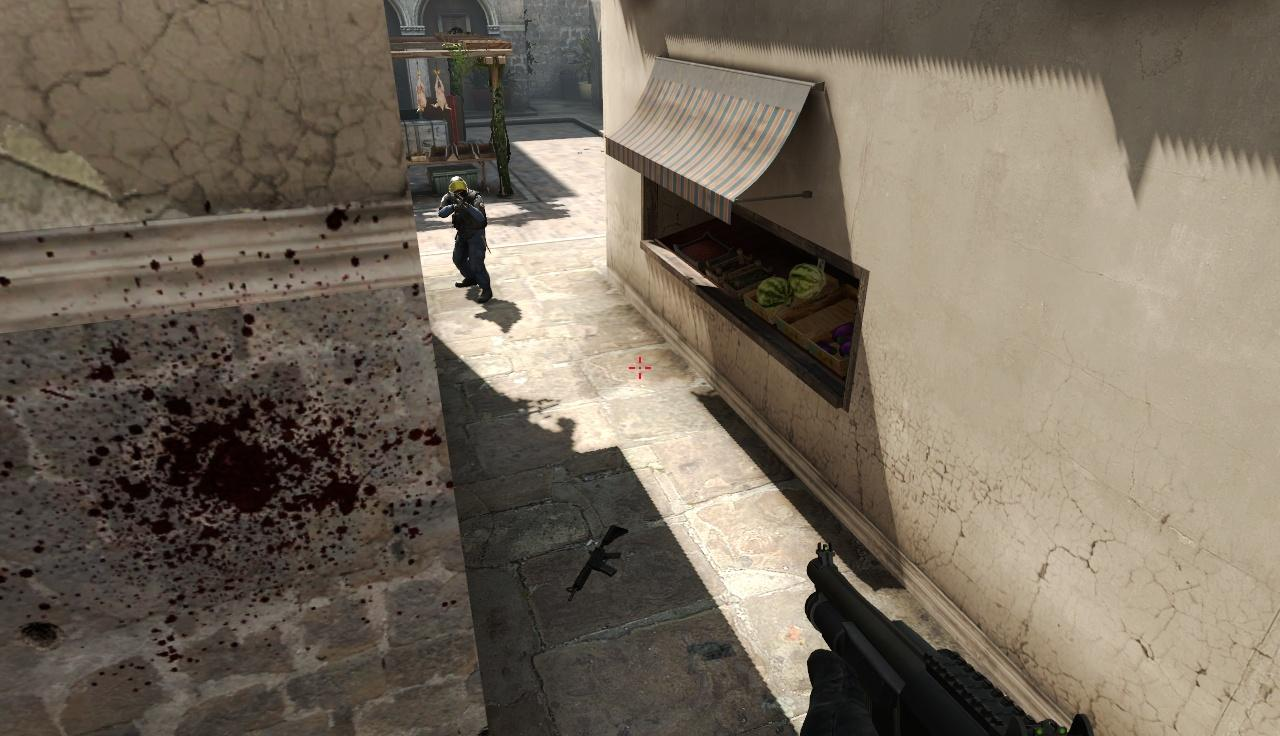ct: (441, 174, 488, 302)
cthead: (446, 176, 470, 199)
shotgun: (794, 539, 1096, 729)
